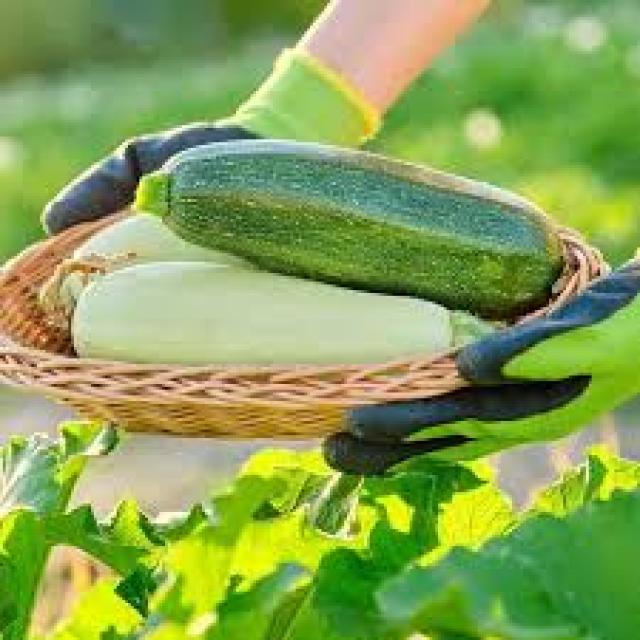Zucchini: (144, 144, 555, 299)
